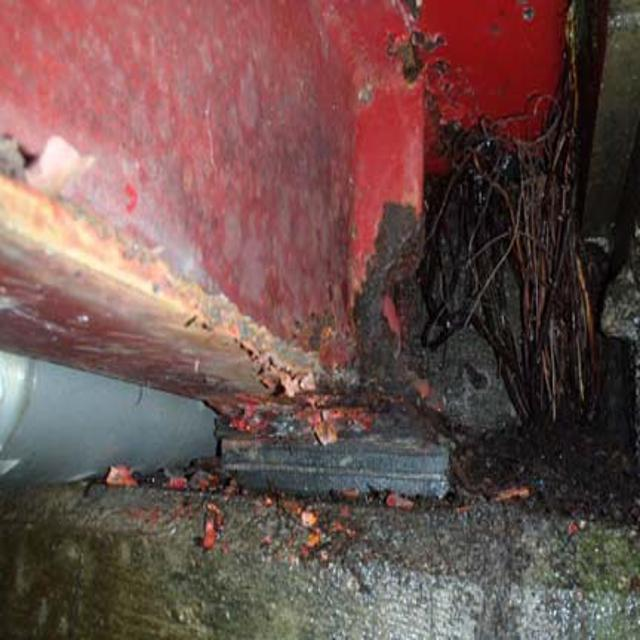corrosion: (210, 133, 481, 464)
